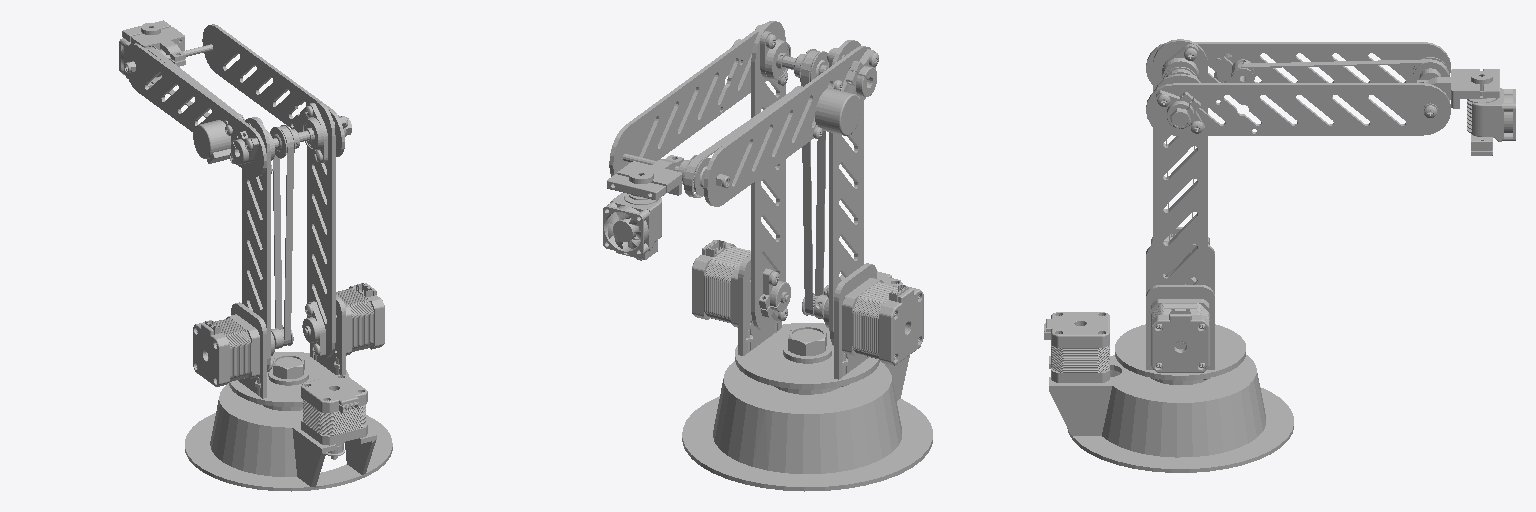
The robot description file, URDF, robot "urdf2":
<?xml version="1.0" encoding="utf-8"?>
<!-- This URDF was automatically created by SolidWorks to URDF Exporter! Originally created by [author] ([email redacted]) 
     Commit Version: 1.6.0-4-g7f85cfe  Build Version: 1.6.7995.38578
     For more information, please see http://wiki.ros.org/sw_urdf_exporter -->
<robot
  name="urdf2">
  <link name="world_link"/>
  <joint 
    name="base_joint" type="fixed">
    <parent link="world_link"/>
    <child link="base_link"/>
    <origin xyz="0 0 0" rpy="0 0 0"/>
    <axis xyz="0 0 0"/>
  </joint>
  <link
    name="base_link">
    <inertial>
      <origin
        xyz="-6.1438E-09 -0.011169 0.020052"
        rpy="0 0 0" />
      <mass
        value="0.50571" />
      <inertia
        ixx="0.00096003"
        ixy="1.9768E-09"
        ixz="6.136E-10"
        iyy="0.00090083"
        iyz="6.5015E-06"
        izz="0.001388" />
    </inertial>
    <visual>
      <origin
        xyz="0 0 0"
        rpy="0 0 0" />
      <geometry>
        <mesh
          filename="package://urdf2/meshes/base_link.STL" />
      </geometry>
      <material
        name="">
        <color
          rgba="0.75294 0.75294 0.75294 1" />
      </material>
    </visual>
    <collision>
      <origin
        xyz="0 0 0"
        rpy="0 0 0" />
      <geometry>
        <mesh
          filename="package://urdf2/meshes/base_link.STL" />
      </geometry>
    </collision>
  </link>
  <link
    name="l1">
    <inertial>
      <origin
        xyz="1.2953E-07 1.2859E-07 -0.015785"
        rpy="0 0 0" />
      <mass
        value="0.47776" />
      <inertia
        ixx="0.00068931"
        ixy="-2.6856E-11"
        ixz="-8.3133E-10"
        iyy="0.00068088"
        iyz="-8.2529E-10"
        izz="0.00094264" />
    </inertial>
    <visual>
      <origin
        xyz="0 0 0"
        rpy="0 0 0" />
      <geometry>
        <mesh
          filename="package://urdf2/meshes/l1.STL" />
      </geometry>
      <material
        name="">
        <color
          rgba="0.75294 0.75294 0.75294 1" />
      </material>
    </visual>
    <collision>
      <origin
        xyz="0 0 0"
        rpy="0 0 0" />
      <geometry>
        <mesh
          filename="package://urdf2/meshes/l1.STL" />
      </geometry>
    </collision>
  </link>
  <joint
    name="j1"
    type="continuous">
    <origin
      xyz="0 0 0.05725"
      rpy="0 0 0" />
    <parent
      link="base_link" />
    <child
      link="l1" />
    <axis
      xyz="0 0 1" />
    <limit
      lower="0"
      upper="6.284"
      effort="1"
      velocity="15.7" />
  </joint>
  <link
    name="l2">
    <inertial>
      <origin
        xyz="0.014582 -0.044276 2.6562E-06"
        rpy="0 0 0" />
      <mass
        value="0.36853" />
      <inertia
        ixx="0.0008527"
        ixy="-1.2859E-09"
        ixz="9.0146E-09"
        iyy="0.00087577"
        iyz="8.1623E-08"
        izz="0.00084714" />
    </inertial>
    <visual>
      <origin
        xyz="0 0 0"
        rpy="0 0 0" />
      <geometry>
        <mesh
          filename="package://urdf2/meshes/l2.STL" />
      </geometry>
      <material
        name="">
        <color
          rgba="0.75294 0.75294 0.75294 1" />
      </material>
    </visual>
    <collision>
      <origin
        xyz="0 0 0"
        rpy="0 0 0" />
      <geometry>
        <mesh
          filename="package://urdf2/meshes/l2.STL" />
      </geometry>
    </collision>
  </link>
  <joint
    name="j2"
    type="revolute">
    <origin
      xyz="0.0145 0 0.04"
      rpy="1.5708 0 3.1416" />
    <parent
      link="l1" />
    <child
      link="l2" />
    <axis
      xyz="1 0 0" />
    <limit
      lower="-1.5710"
      upper="1.5710"
      effort="0.5"
      velocity="31.4" />
  </joint>
  <link
    name="l3">
    <inertial>
      <origin
        xyz="0.036174 -0.19646 0.01907"
        rpy="0 0 0" />
      <mass
        value="0.36255" />
      <inertia
        ixx="0.00085252"
        ixy="2.9772E-09"
        ixz="-6.3162E-10"
        iyy="0.0010923"
        iyz="-2.6361E-07"
        izz="0.00062587" />
    </inertial>
    <visual>
      <origin
        xyz="0 0 0"
        rpy="0 0 0" />
      <geometry>
        <mesh
          filename="package://urdf2/meshes/l3.STL" />
      </geometry>
      <material
        name="">
        <color
          rgba="0.75294 0.75294 0.75294 1" />
      </material>
    </visual>
    <collision>
      <origin
        xyz="0 0 0"
        rpy="0 0 0" />
      <geometry>
        <mesh
          filename="package://urdf2/meshes/l3.STL" />
      </geometry>
    </collision>
  </link>
  <joint
    name="j3"
    type="revolute">
    <origin
      xyz="-0.0195 0.17 0"
      rpy="0 0 0" />
    <parent
      link="l2" />
    <child
      link="l3" />
    <axis
      xyz="-1 0 0" />
    <limit
      lower="0"
      upper="3.142"
      effort="1"
      velocity="15.7" />
  </joint>
  <link
    name="l4">
    <inertial>
      <origin
        xyz="-0.0049511 -0.23516 -0.15806"
        rpy="0 0 0" />
      <mass
        value="0.30407" />
      <inertia
        ixx="0.00061814"
        ixy="2.6323E-09"
        ixz="-3.9108E-09"
        iyy="0.00086659"
        iyz="-1.3982E-07"
        izz="0.00061915" />
    </inertial>
    <visual>
      <origin
        xyz="0 0 0"
        rpy="0 0 0" />
      <geometry>
        <mesh
          filename="package://urdf2/meshes/l4.STL" />
      </geometry>
      <material
        name="">
        <color
          rgba="0.75294 0.75294 0.75294 1" />
      </material>
    </visual>
    <collision>
      <origin
        xyz="0 0 0"
        rpy="0 0 0" />
      <geometry>
        <mesh
          filename="package://urdf2/meshes/l4.STL" />
      </geometry>
    </collision>
  </link>
  <joint
    name="j4"
    type="revolute">
    <origin
      xyz="0.038909 0 0.18"
      rpy="0 0 0" />
    <parent
      link="l3" />
    <child
      link="l4" />
    <axis
      xyz="1 0 0" />
    <limit
      lower="-1.5710"
      upper="1.5710"
      effort="1"
      velocity="15.7" />
  </joint>
  <transmission name="link_1_trans">
    <type>transmission_interface/SimpleTransmission</type>
    <joint name="j1">
      <hardwareInterface>hardware_interface/PositionJointInterface</hardwareInterface>
    </joint>
    <actuator name="link_1_motor">
      <hardwareInterface>hardware_interface/PositionJointInterface</hardwareInterface>
      <mechanicalReduction>1</mechanicalReduction>
    </actuator>
  </transmission>
  <transmission name="link_2_trans">
    <type>transmission_interface/SimpleTransmission</type>
    <joint name="j2">
      <hardwareInterface>hardware_interface/PositionJointInterface</hardwareInterface>
    </joint>
    <actuator name="link_2_motor">
      <hardwareInterface>hardware_interface/PositionJointInterface</hardwareInterface>
      <mechanicalReduction>1</mechanicalReduction>
    </actuator>
  </transmission>
  <transmission name="link_3_trans">
    <type>transmission_interface/SimpleTransmission</type>
    <joint name="j3">
      <hardwareInterface>hardware_interface/PositionJointInterface</hardwareInterface>
    </joint>
    <actuator name="link_3_motor">
      <hardwareInterface>hardware_interface/PositionJointInterface</hardwareInterface>
      <mechanicalReduction>1</mechanicalReduction>
    </actuator>
  </transmission>
  <transmission name="link_4_trans">
    <type>transmission_interface/SimpleTransmission</type>
    <joint name="j4">
      <hardwareInterface>hardware_interface/PositionJointInterface</hardwareInterface>
    </joint>
    <actuator name="link_4_motor">
      <hardwareInterface>hardware_interface/PositionJointInterface</hardwareInterface>
      <mechanicalReduction>1</mechanicalReduction>
    </actuator>
  </transmission>
  <gazebo>
    <plugin name="gazebo_ros_control" filename="libgazebo_ros_control.so">
      <robotNamespace>/</robotNamespace>
    </plugin>
  </gazebo>
  <gazebo reference="l1">
    <selfCollide>true</selfCollide>
  </gazebo>
  <gazebo reference="l2">
    <selfCollide>true</selfCollide>
  </gazebo>
  <gazebo reference="l3">
    <selfCollide>true</selfCollide>
  </gazebo>
  <gazebo reference="l4">
    <selfCollide>true</selfCollide>
  </gazebo>
</robot>

--- What the picture shows (computed from the rendered views, not written in the file) ---
The picture shows the robot from 3 angles, left to right: view 1: azimuth 30°, elevation 25°; view 2: azimuth 150°, elevation 25°; view 3: azimuth 270°, elevation 25°; orthographic projection.
Model urdf2 with 6 links and 5 joints (3 revolute, 1 continuous, 1 fixed), rooted at world_link, posed every joint at zero.
Links seen in each view (by area): view 1: base_link, l2, l3, l1, l4; view 2: base_link, l3, l1, l2, l4; view 3: base_link, l3, l2, l1, l4.
Link boxes in pixels (x1=…): base_link: x1=185, y1=374, x2=392, y2=491; l2: x1=242, y1=101, x2=351, y2=371; l3: x1=124, y1=24, x2=347, y2=176; l1: x1=193, y1=283, x2=384, y2=406; l4: x1=119, y1=20, x2=185, y2=87; base_link: x1=682, y1=271, x2=932, y2=491; l3: x1=609, y1=23, x2=878, y2=206; l1: x1=692, y1=240, x2=923, y2=389; l2: x1=732, y1=21, x2=863, y2=345; l4: x1=603, y1=155, x2=683, y2=260; base_link: x1=1044, y1=312, x2=1293, y2=472; l3: x1=1146, y1=42, x2=1450, y2=135; l2: x1=1153, y1=39, x2=1207, y2=285; l1: x1=1115, y1=227, x2=1245, y2=380; l4: x1=1417, y1=69, x2=1515, y2=155.
Size in the robot's own frame: 0.1635 by 0.3393 by 0.2923 metres.
5 mesh visuals loaded from 5 distinct referenced files (5 binary STL).